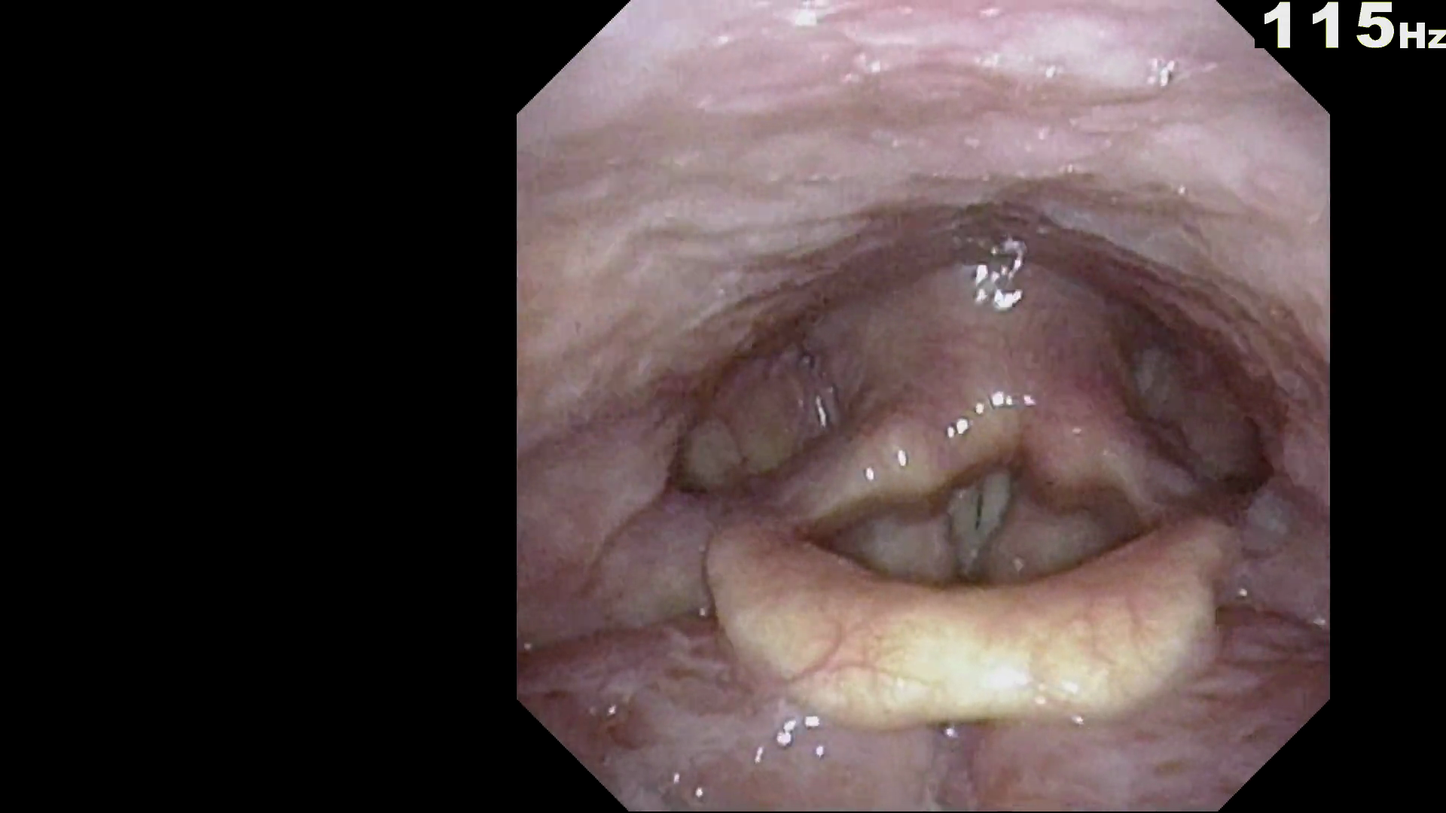epiglottis: (686, 525, 1261, 711)
trachea: (935, 454, 1037, 569)
